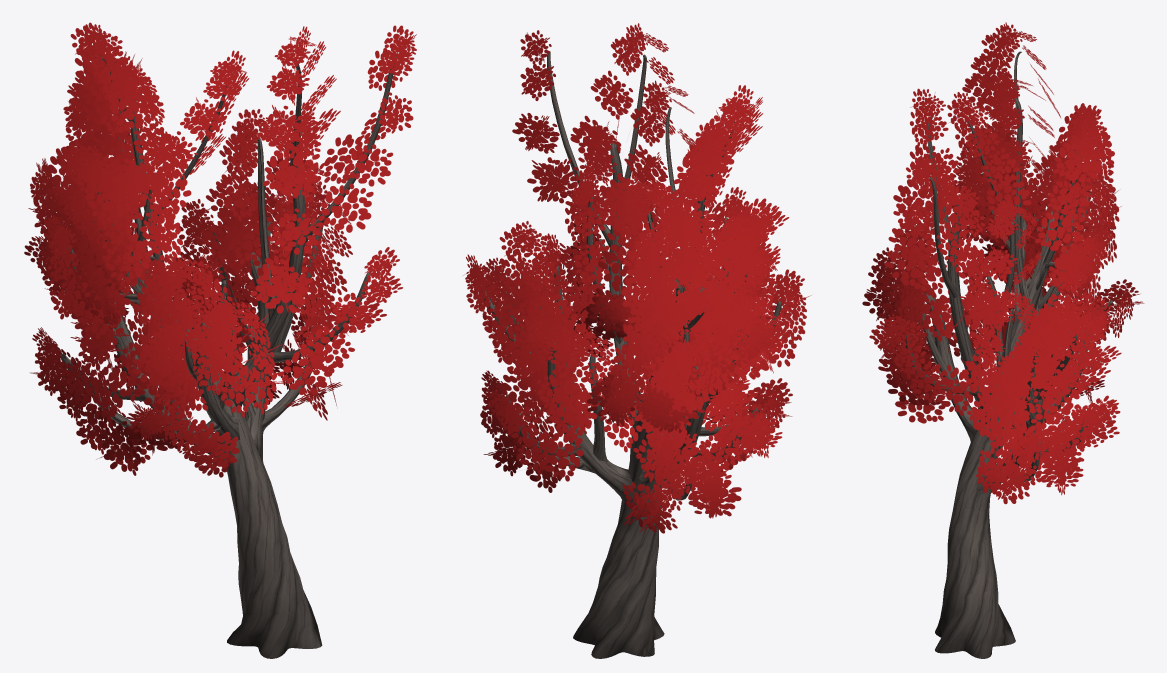
File: twisted.glb
3 views of the same model, side by side, from view 1: azimuth 30°, elevation 25°; view 2: azimuth 150°, elevation 25°; view 3: azimuth 270°, elevation 25° (orthographic). The views are drawn at different scales.
Parts seen in each view (by area): view 1: TwistedTree_2; view 2: TwistedTree_2; view 3: TwistedTree_2.
Boxes of the visible parts, bbox=[...] form: TwistedTree_2: bbox=[24, 22, 416, 658]; TwistedTree_2: bbox=[463, 23, 811, 658]; TwistedTree_2: bbox=[862, 22, 1144, 658].
Size of the model in its own units: 10.56 by 18.95 by 9.2.
Materials: 2 (2 with a texture image).
